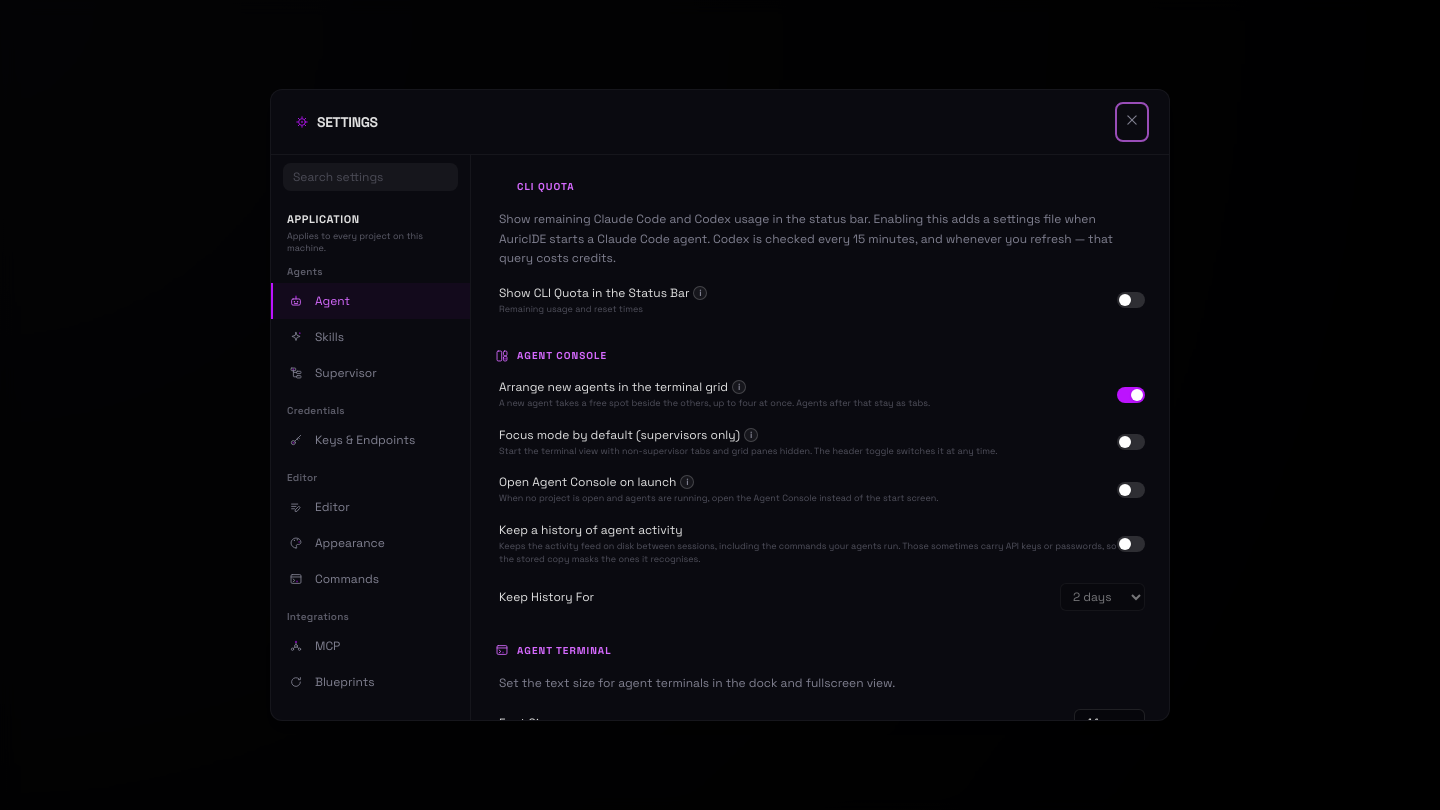
Test: SettingsModal – Grouped nav › finds a supervisor page by its own name
In the field with test id "settings-search": [370, 177] box [283,163,458,191], type "menu bar"
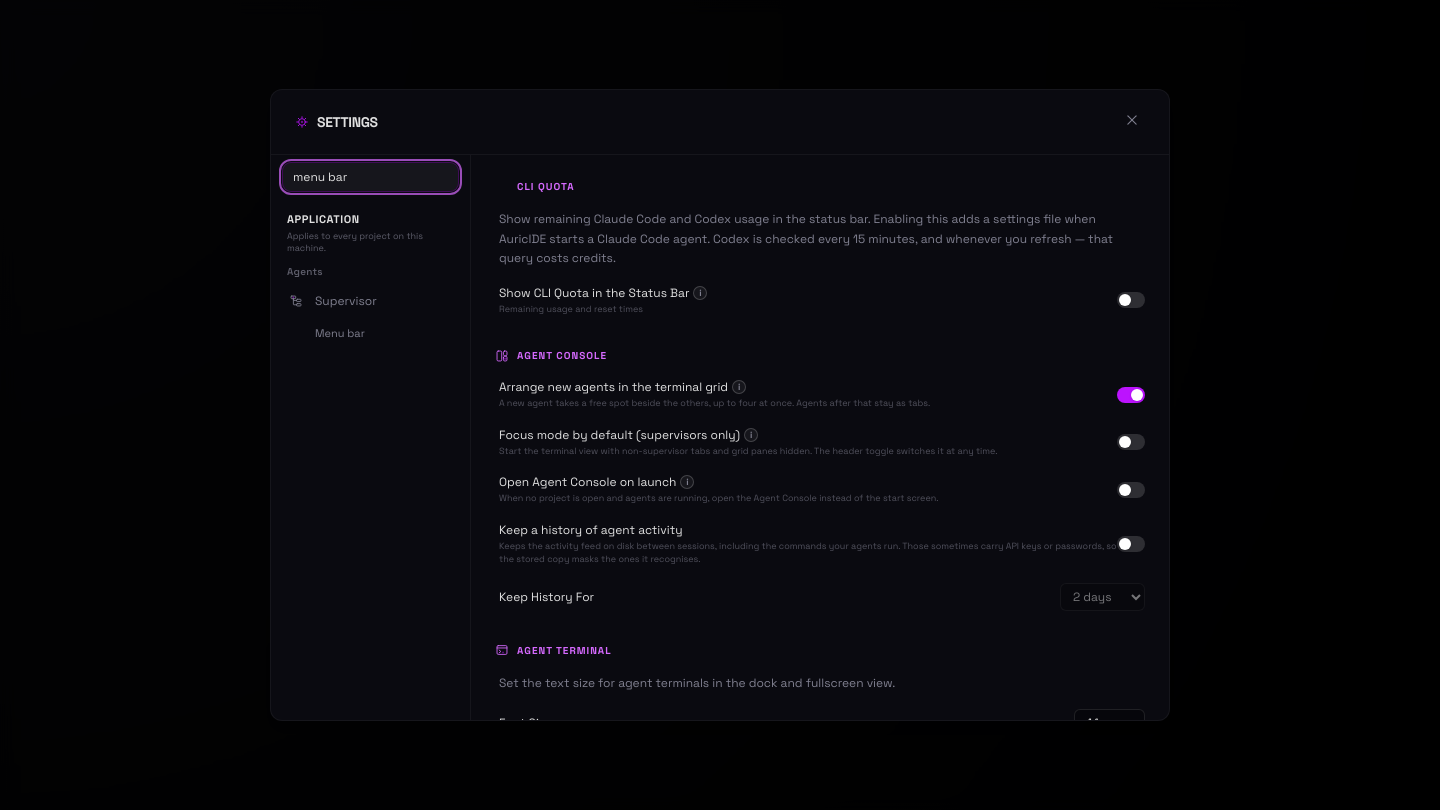
Expected: the button with test id "settings-nav-supervisor" is shown, [271,283,470,319]
Expected: the button with test id "settings-nav-supervisor-menu-bar" is shown, [271,319,470,348]
